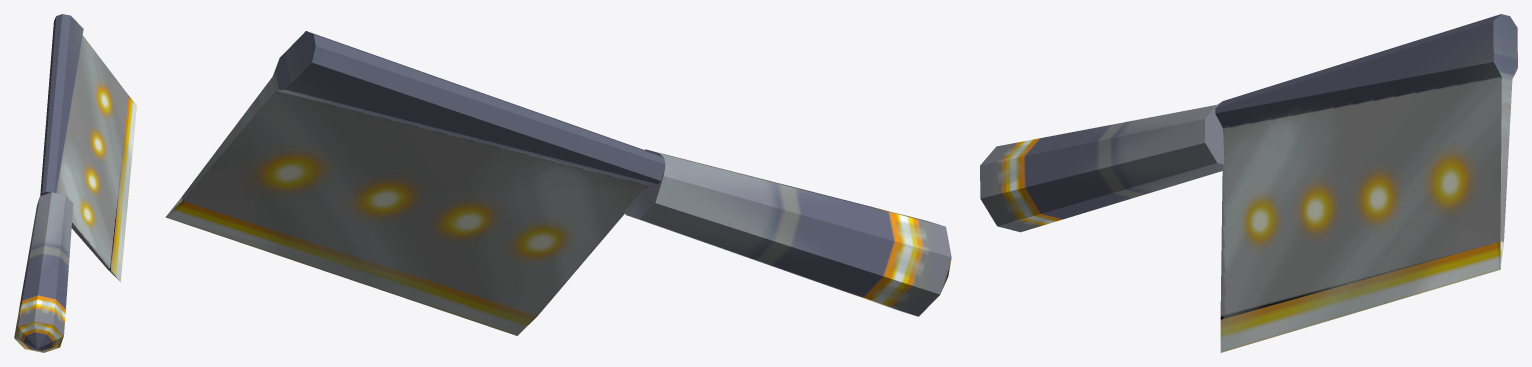
Rendered from Faca.fbx.
The picture shows the model from 3 angles, left to right: view 1: azimuth 30°, elevation 25°; view 2: azimuth 150°, elevation 25°; view 3: azimuth 270°, elevation 25°; orthographic projection. The views are drawn at different scales.
Visible parts, largest first — view 1: Faca; view 2: Faca; view 3: Faca.
Part boxes in pixels (x1,y1,x2,y2): Faca: [14, 14, 136, 352]; Faca: [165, 31, 951, 335]; Faca: [980, 14, 1517, 352].
Bounding box in the file's own units: 153 × 117 × 159.
1 material, 1 textured.
